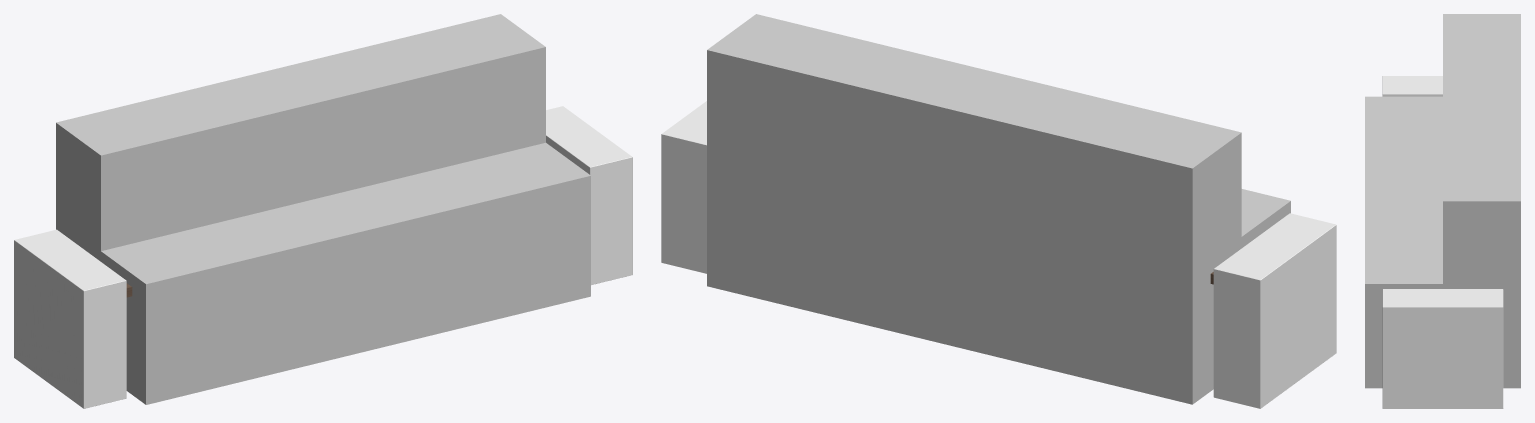
The model's file is bench_3.gltf.
3 views of the same model, side by side, from view 1: azimuth 30°, elevation 25°; view 2: azimuth 150°, elevation 25°; view 3: azimuth 270°, elevation 25° (orthographic). The views are drawn at different scales.
Parts seen in each view (by area): view 1: size_ref, Cube; view 2: size_ref, Cube; view 3: size_ref, Cube.
Boxes of the visible parts, box(x1,y1,x2,y2) form: size_ref: box(56, 14, 590, 404); Cube: box(14, 106, 632, 408); size_ref: box(707, 14, 1290, 404); Cube: box(661, 101, 1336, 408); size_ref: box(1365, 14, 1520, 388); Cube: box(1382, 76, 1503, 408).
Size of what is drawn, in the model's own units: 2.28 by 0.86 by 0.65.
Materials: 2 (1 with a texture image).
